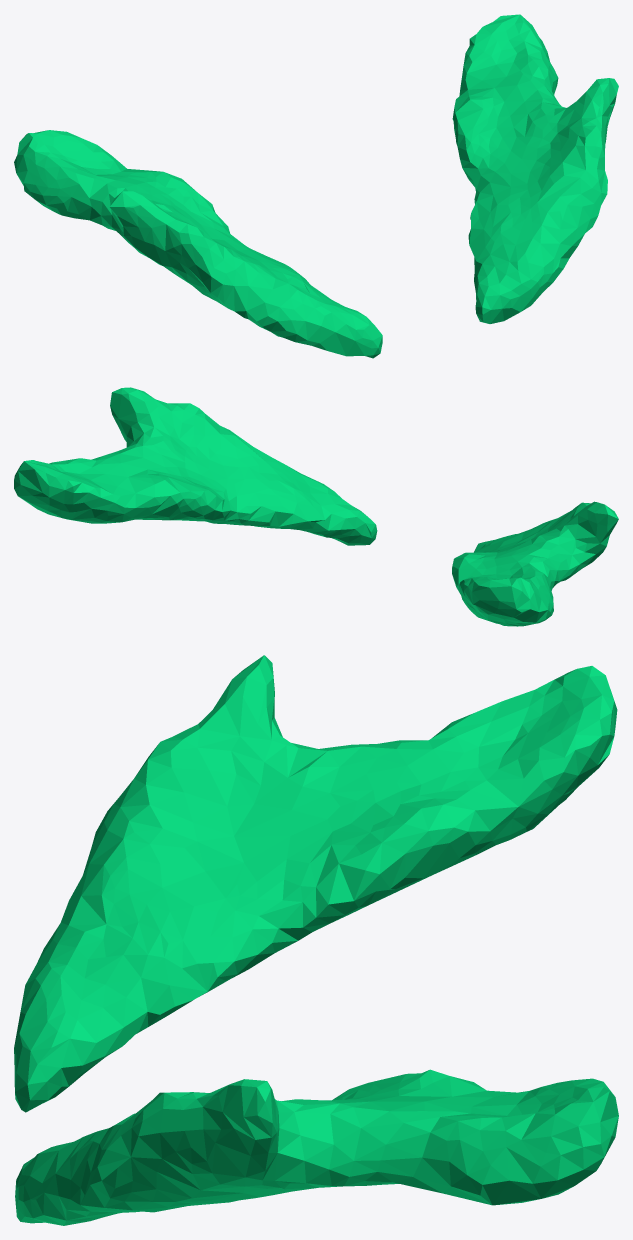
File: 20-46V-area 46V of cortex-('0.0000', '1.0000', '0.5725').obj
3 views of the same model, one above another, from view 1: azimuth 30°, elevation 25°; view 2: azimuth 150°, elevation 25°; view 3: azimuth 270°, elevation 25° (orthographic). The views are drawn at different scales.
Bounding box in the file's own units: 188 × 55.91 × 104.
